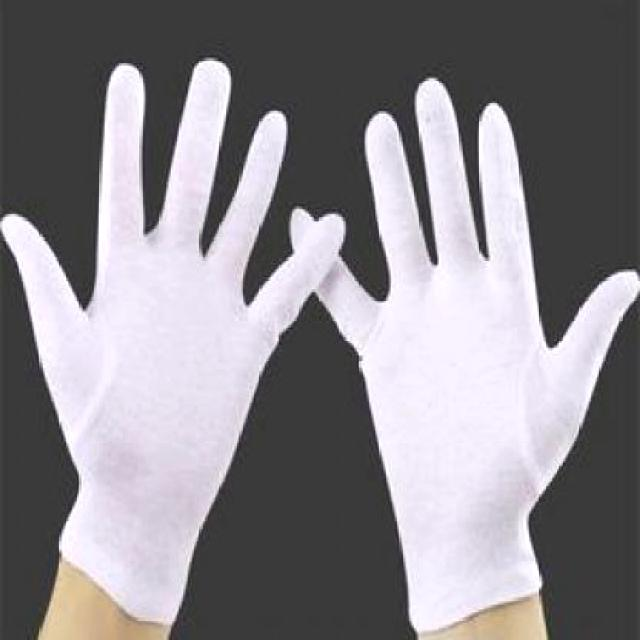hand_glove: (9, 50, 348, 575), (303, 68, 640, 588)
